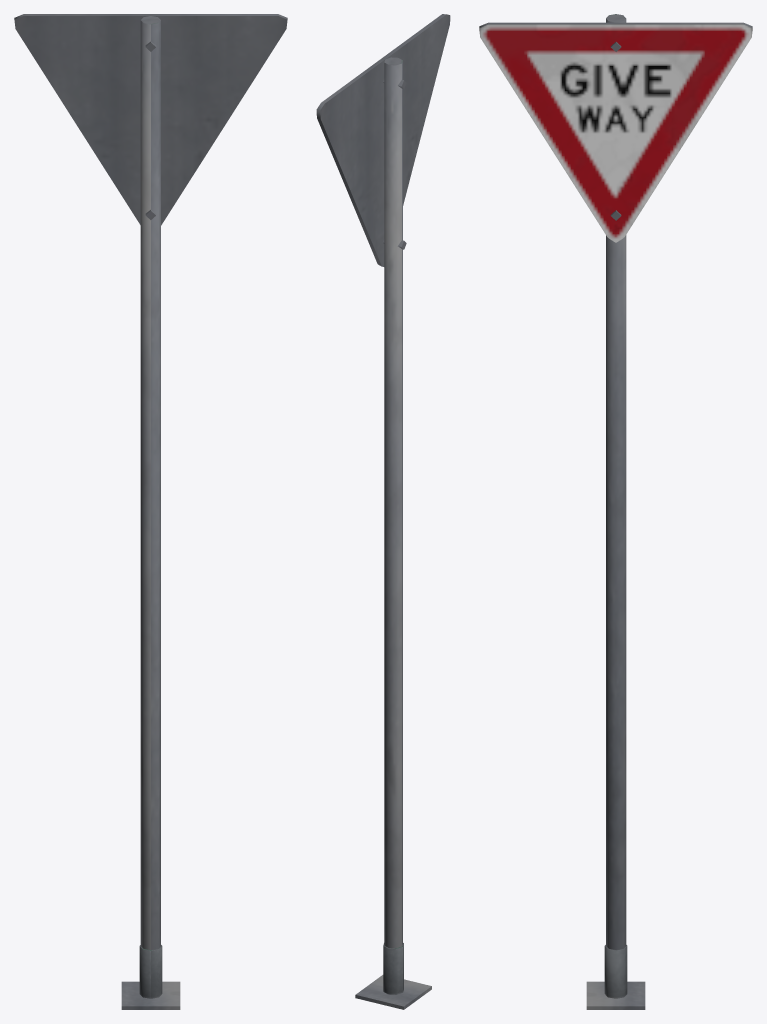
Rendered from give_away.glb.
3 views of the same model, side by side, from view 1: azimuth 90°, elevation 25°; view 2: azimuth 150°, elevation 25°; view 3: azimuth 270°, elevation 25° (orthographic). The views are drawn at different scales.
Visible parts, largest first — view 1: Object_164, Object_290; view 2: Object_290, Object_164; view 3: Object_164, Object_290.
Part boxes in pixels (bbox=[...]): Object_164: bbox=[14, 14, 287, 225]; Object_290: bbox=[121, 16, 180, 1009]; Object_290: bbox=[355, 57, 431, 1009]; Object_164: bbox=[316, 14, 450, 266]; Object_164: bbox=[479, 22, 752, 242]; Object_290: bbox=[586, 14, 645, 1009].
Size of the model in its own units: 0.6 by 11.04 by 2.8.
1 material, 1 textured.
